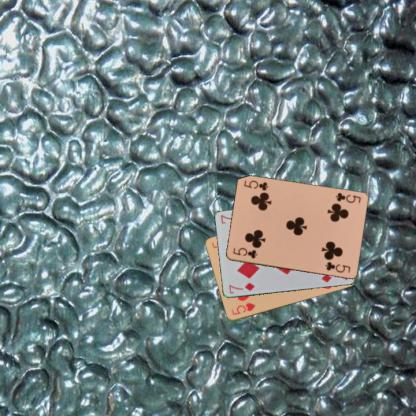5c: (332, 190, 362, 205), (231, 245, 258, 259)
5h: (229, 300, 256, 316)
7d: (226, 280, 255, 295)
